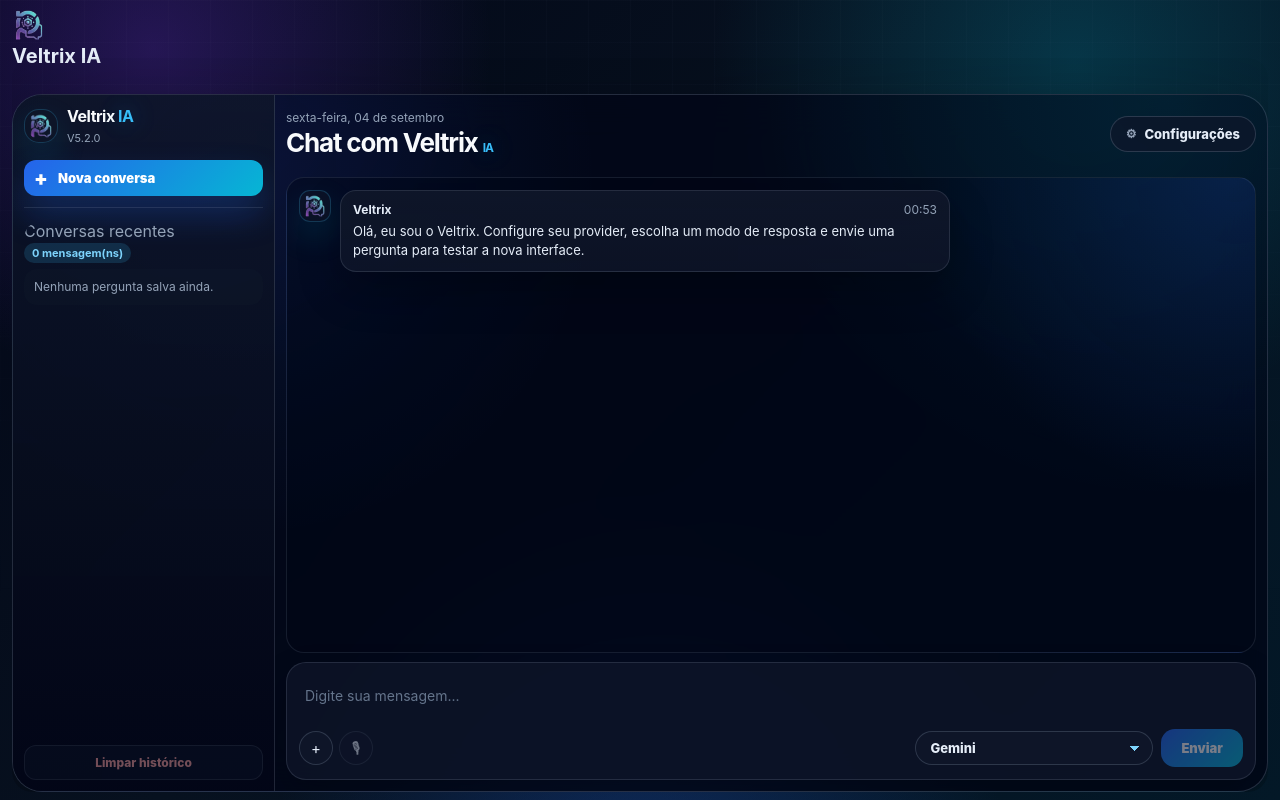
ChatPage — seleção de IA e autorização › trocar de IA descarta a autorização anterior
Select "mock" in the dropdown named "IA utilizada nesta conversa" at {"x": 1034, "y": 748}, box [915,731,1153,765]
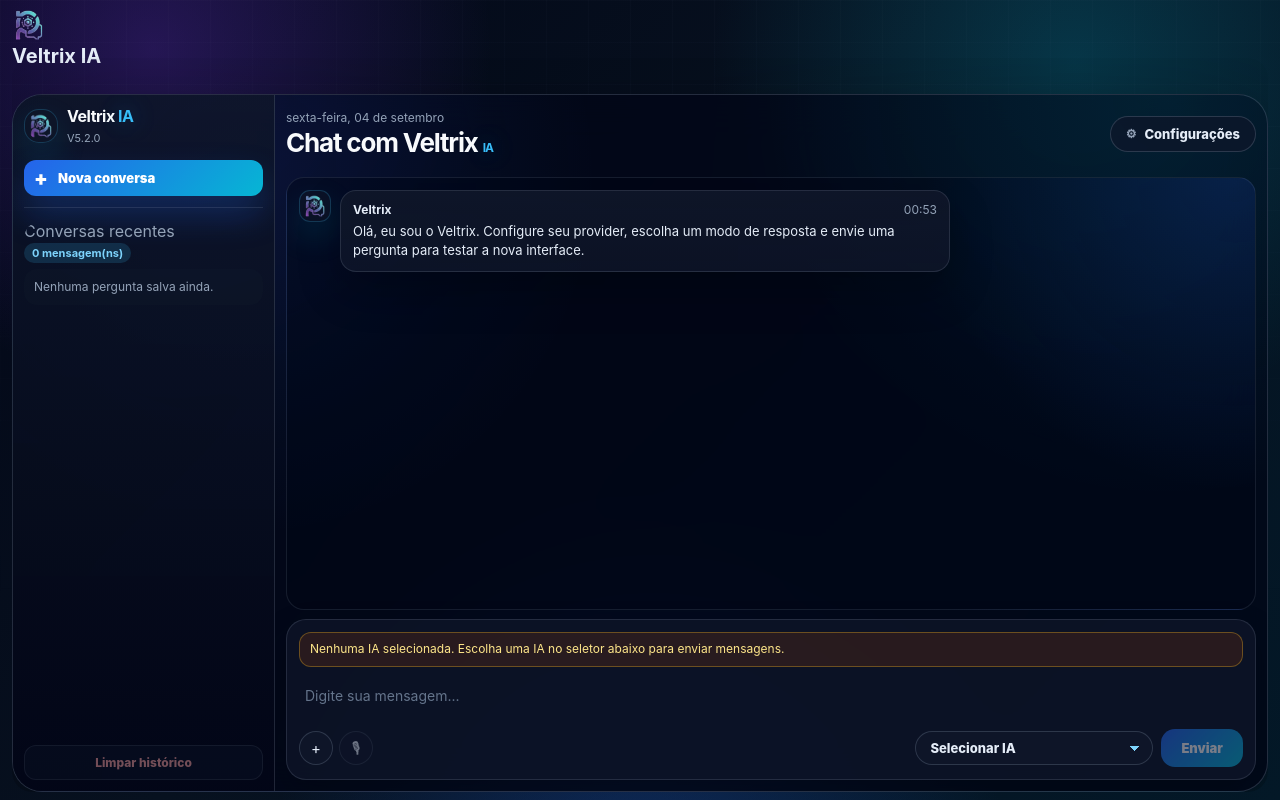
Select "Gemini" in the dropdown named "IA utilizada nesta conversa" at {"x": 1034, "y": 748}, box [915,731,1153,765]
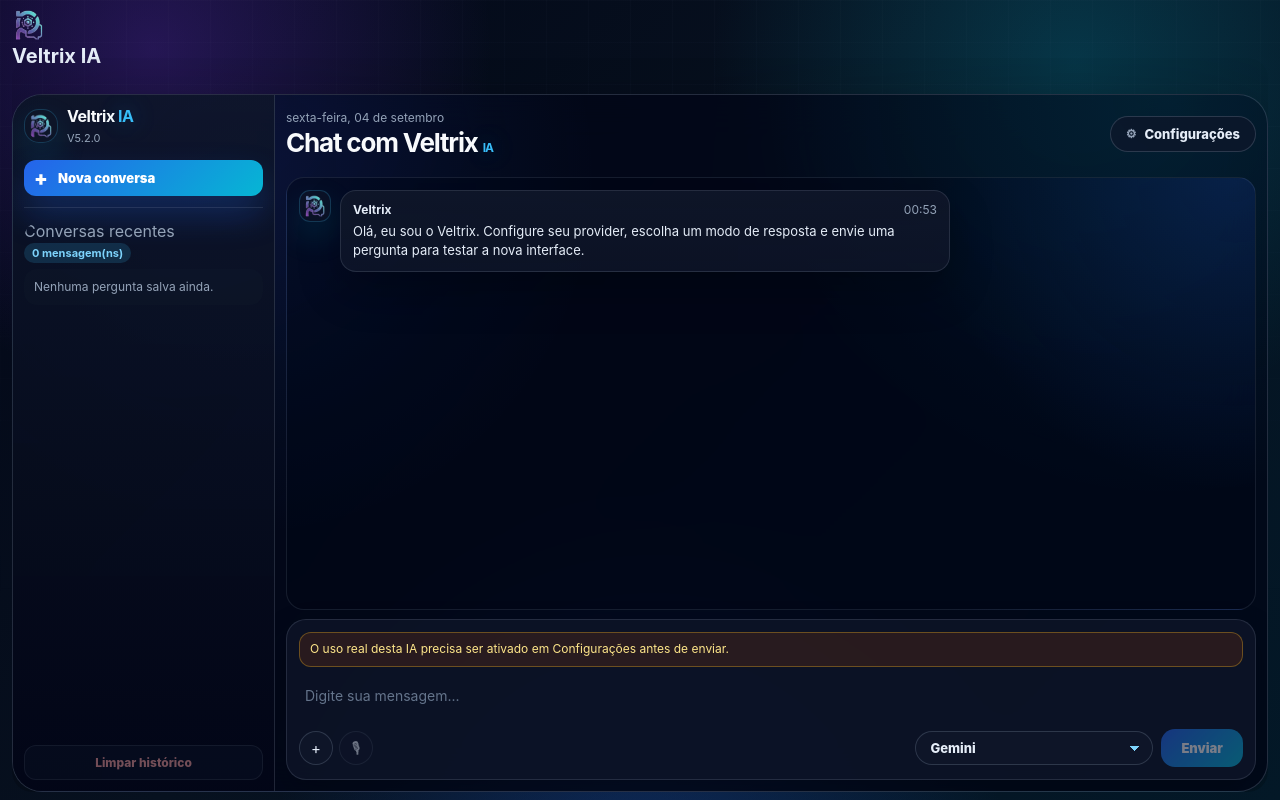
Expected: the text "O uso real desta IA precisa ser ativado em Configurações antes de enviar." is shown, [299,632,1243,667]
